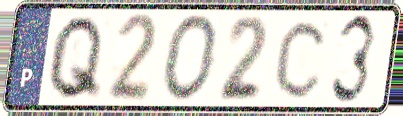2: (106, 10, 160, 105), (218, 13, 272, 104)
3: (327, 12, 385, 107)
C: (272, 17, 331, 102)
O: (161, 12, 222, 104)
Q: (44, 12, 107, 103)
